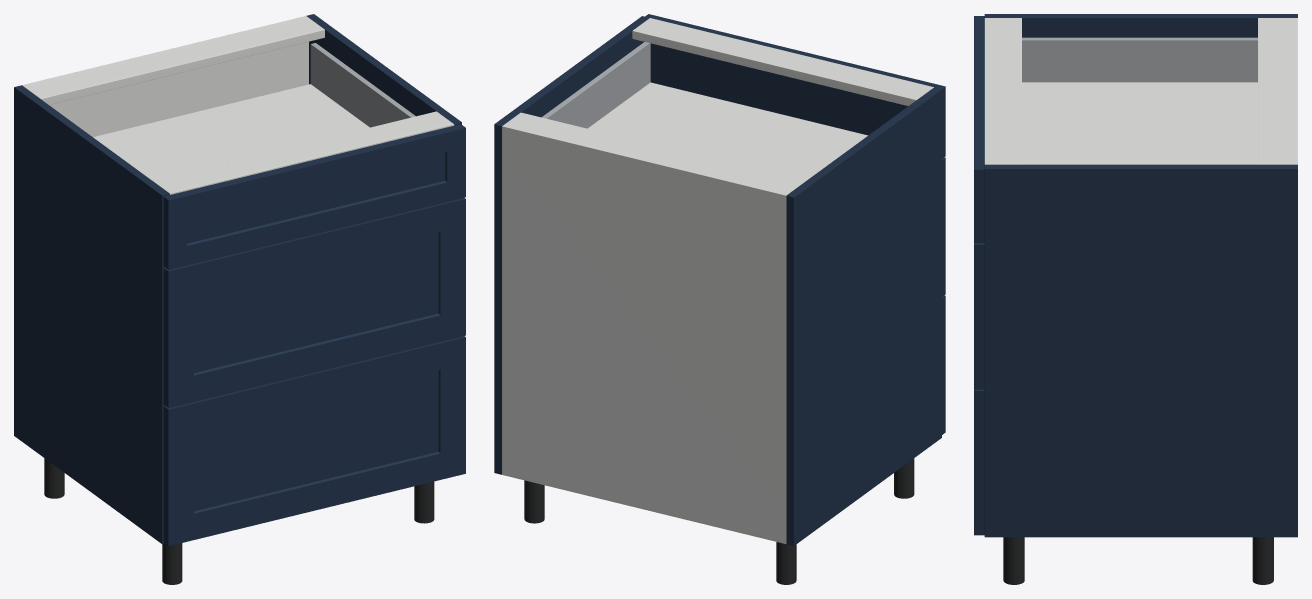
File: oppein-pb-bss-3db27.glb
The picture shows the model from 3 angles, left to right: view 1: azimuth 30°, elevation 25°; view 2: azimuth 150°, elevation 25°; view 3: azimuth 270°, elevation 25°; orthographic projection. The views are drawn at different scales.
Parts seen in each view (by area): view 1: Cabinet side, Drawer front, Drawer front.001, Drawer front.002, Drawer floor.002, Cabinet back, Top support rail, Top support rail.001, Drawer side.005, Cabinet side.001, Adjustable foot.001, Adjustable foot.003 (+1 smaller); view 2: Cabinet back, Cabinet side, Drawer floor.002, Drawer front.002, Top support rail.001, Cabinet side.001, Top support rail, Drawer side.005, Cabinet bottom, Adjustable foot, Adjustable foot.002, Adjustable foot.001; view 3: Cabinet side.001, Drawer floor.002, Drawer side.004, Cabinet side, Top support rail.001, Top support rail, Drawer front.002, Drawer front, Drawer front.001, Adjustable foot.003, Adjustable foot.002, Cabinet back.
Boxes of the visible parts, bbox=[...] form: Cabinet side: bbox=[14, 85, 169, 544]; Drawer front: bbox=[163, 336, 465, 546]; Drawer front.001: bbox=[163, 198, 465, 407]; Drawer front.002: bbox=[163, 124, 465, 269]; Drawer floor.002: bbox=[93, 84, 369, 180]; Cabinet back: bbox=[22, 16, 308, 136]; Top support rail: bbox=[25, 18, 324, 104]; Top support rail.001: bbox=[152, 111, 454, 194]; Drawer side.005: bbox=[310, 43, 415, 127]; Cabinet side.001: bbox=[306, 14, 461, 125]; Adjustable foot.001: bbox=[162, 543, 182, 584]; Adjustable foot.003: bbox=[414, 481, 434, 523]; Cabinet back: bbox=[502, 124, 788, 543]; Cabinet side: bbox=[786, 87, 941, 545]; Drawer floor.002: bbox=[588, 82, 867, 181]; Drawer front.002: bbox=[645, 14, 945, 158]; Top support rail.001: bbox=[632, 18, 933, 105]; Cabinet side.001: bbox=[494, 16, 649, 474]; Top support rail: bbox=[505, 112, 804, 193]; Drawer side.005: bbox=[541, 42, 650, 128]; Cabinet bottom: bbox=[502, 469, 786, 543]; Adjustable foot: bbox=[776, 542, 796, 584]; Adjustable foot.002: bbox=[524, 480, 544, 523]; Adjustable foot.001: bbox=[894, 458, 914, 498]; Cabinet side.001: bbox=[984, 164, 1297, 537]; Drawer floor.002: bbox=[1022, 82, 1257, 164]; Drawer side.004: bbox=[1022, 37, 1257, 82]; Cabinet side: bbox=[984, 14, 1297, 37]; Top support rail.001: bbox=[984, 18, 1021, 164]; Top support rail: bbox=[1258, 18, 1291, 164]; Drawer front.002: bbox=[974, 16, 984, 242]; Drawer front: bbox=[974, 389, 984, 535]; Drawer front.001: bbox=[974, 243, 984, 389]; Adjustable foot.003: bbox=[1003, 537, 1024, 584]; Adjustable foot.002: bbox=[1252, 537, 1273, 584]; Cabinet back: bbox=[1292, 18, 1297, 164].
Bounding box in the file's own units: 0.6858 × 0.8763 × 0.6064.
